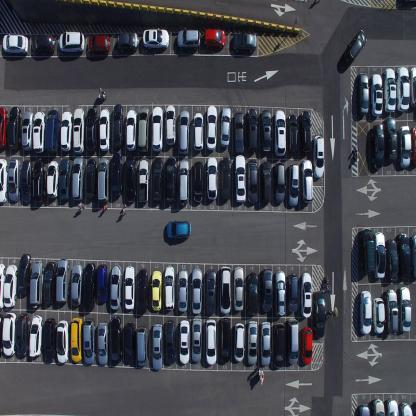car: (343, 28, 367, 67), (1, 311, 17, 357), (359, 228, 375, 274), (29, 260, 44, 308), (384, 288, 399, 335), (395, 66, 410, 112), (397, 232, 411, 281), (42, 317, 57, 362), (370, 123, 385, 168), (204, 318, 218, 366), (312, 290, 326, 338), (398, 285, 412, 333), (83, 260, 96, 311), (17, 252, 32, 296), (3, 264, 18, 308), (45, 109, 60, 153), (69, 316, 83, 363), (55, 258, 69, 304), (300, 158, 314, 204), (373, 231, 386, 280), (16, 312, 30, 357), (32, 109, 46, 154), (7, 106, 21, 151), (83, 317, 96, 365), (273, 110, 286, 158), (32, 160, 46, 204), (398, 124, 412, 168), (219, 264, 231, 315), (124, 153, 136, 204), (109, 264, 122, 311), (85, 106, 98, 153), (385, 115, 398, 162), (29, 315, 43, 358), (234, 154, 246, 204), (56, 318, 69, 364), (96, 320, 109, 366), (260, 266, 273, 312), (97, 158, 110, 204), (142, 27, 169, 49), (2, 33, 29, 55), (110, 316, 122, 365), (359, 290, 372, 335), (386, 238, 399, 283), (164, 155, 176, 203), (138, 106, 150, 154), (190, 267, 202, 315), (151, 322, 163, 370), (246, 318, 258, 366), (274, 270, 286, 318), (73, 107, 85, 155), (70, 262, 83, 306), (43, 260, 56, 304), (259, 322, 272, 366), (299, 110, 312, 154), (20, 160, 33, 204), (8, 158, 21, 202), (370, 74, 383, 118), (383, 68, 396, 112), (58, 31, 84, 53), (151, 156, 163, 203), (136, 267, 148, 314), (219, 317, 231, 364), (300, 271, 312, 318), (273, 322, 285, 368), (287, 318, 299, 364), (246, 107, 258, 153), (232, 31, 257, 53), (176, 29, 201, 51), (60, 110, 73, 152), (206, 156, 218, 201), (247, 159, 259, 204), (260, 159, 272, 204), (287, 161, 299, 206), (312, 134, 324, 179), (112, 103, 124, 148), (72, 156, 84, 201), (59, 157, 71, 202), (21, 110, 34, 151), (191, 315, 202, 363), (137, 159, 149, 203), (123, 321, 135, 365), (246, 272, 258, 316), (192, 160, 204, 204), (273, 160, 285, 204), (286, 273, 299, 313), (177, 109, 188, 156), (151, 105, 162, 152), (164, 265, 175, 312), (178, 159, 189, 206), (124, 264, 135, 311), (136, 325, 148, 368), (85, 157, 97, 200), (205, 270, 216, 316), (165, 320, 176, 366), (179, 319, 190, 365), (206, 106, 217, 152), (111, 152, 122, 198), (202, 27, 225, 49), (87, 34, 110, 56), (233, 112, 245, 154), (126, 109, 138, 151), (31, 34, 55, 55), (166, 220, 191, 240), (177, 267, 188, 312), (233, 266, 244, 311), (260, 109, 271, 154), (358, 71, 369, 116), (46, 160, 59, 198), (233, 322, 245, 363), (286, 114, 298, 155), (99, 108, 110, 152), (372, 297, 385, 334), (96, 263, 108, 303), (220, 106, 232, 146), (151, 269, 162, 312), (164, 104, 175, 146), (192, 110, 203, 152), (116, 32, 139, 52), (301, 326, 313, 364), (221, 156, 231, 200), (0, 105, 9, 150), (0, 157, 8, 205), (0, 262, 6, 310), (410, 234, 416, 279), (371, 397, 385, 415), (410, 125, 416, 166), (386, 398, 399, 416), (410, 66, 415, 110), (399, 402, 413, 416), (0, 313, 4, 357), (358, 403, 370, 415), (413, 401, 416, 415)
